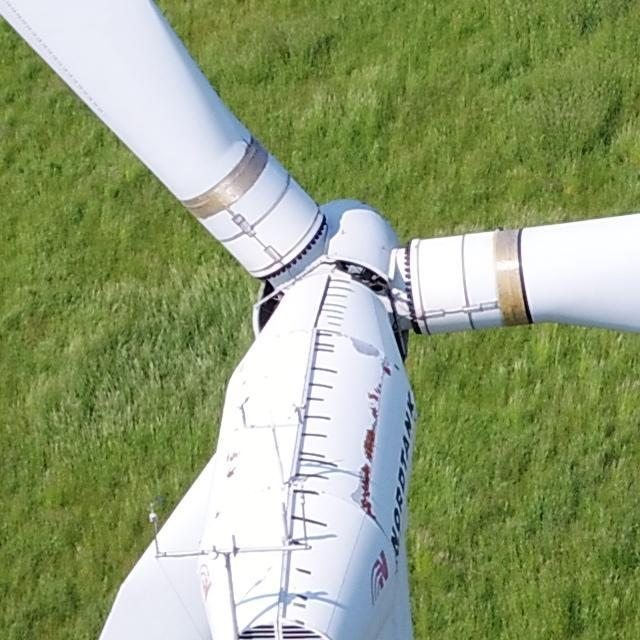damage: (357, 463, 377, 520), (347, 335, 382, 357), (363, 427, 377, 463), (368, 407, 380, 430), (380, 363, 394, 378), (367, 392, 381, 403), (373, 386, 382, 396), (226, 470, 234, 479), (378, 383, 383, 388)
